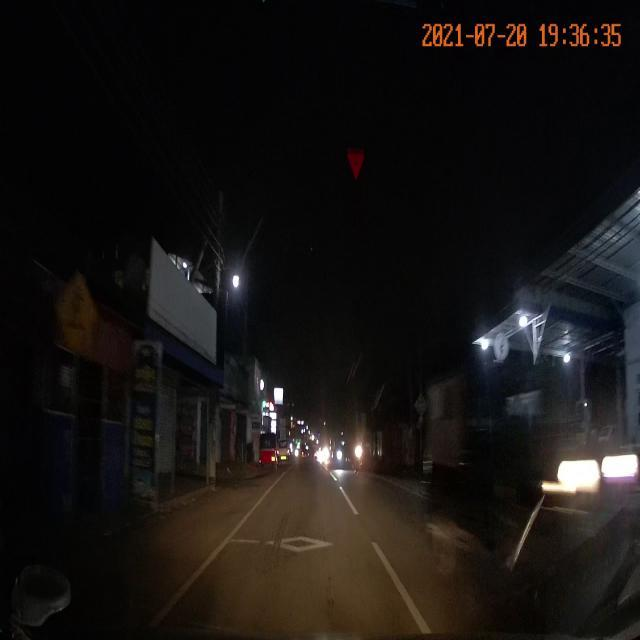diamond: (204, 512, 395, 565)
